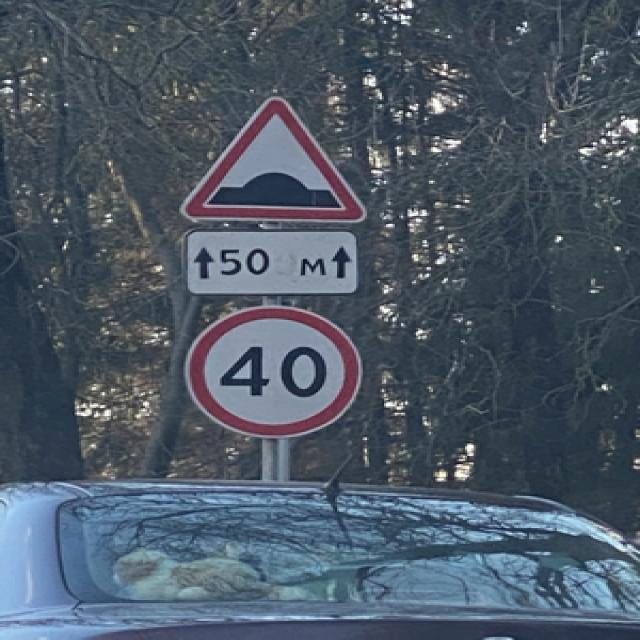speedlimit: (177, 302, 356, 437)
